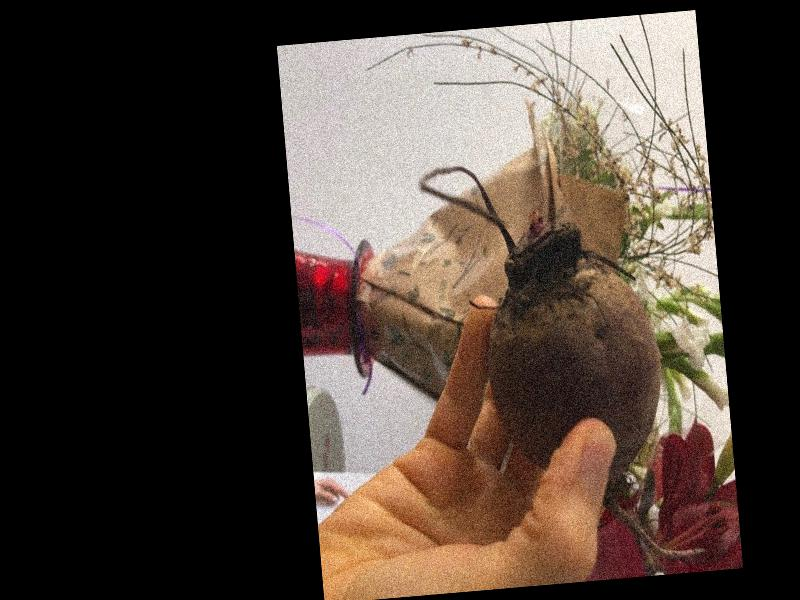Beet: (418, 147, 703, 575)
